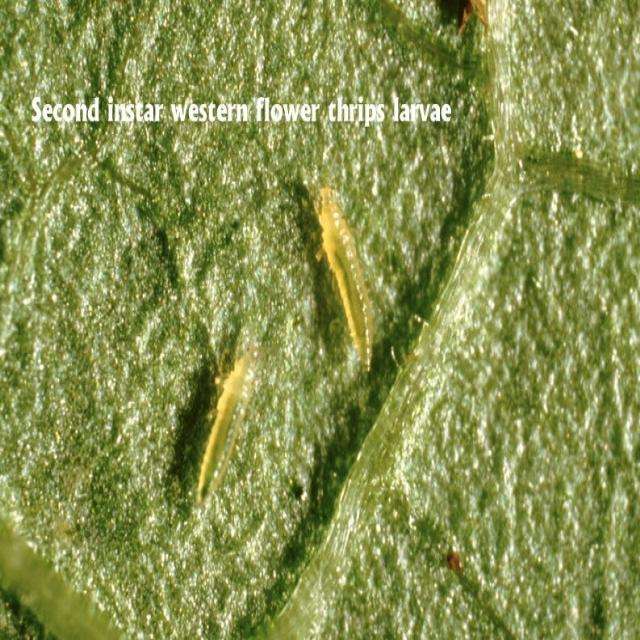Thrip-Larva-: (307, 160, 388, 382), (190, 322, 271, 513)
